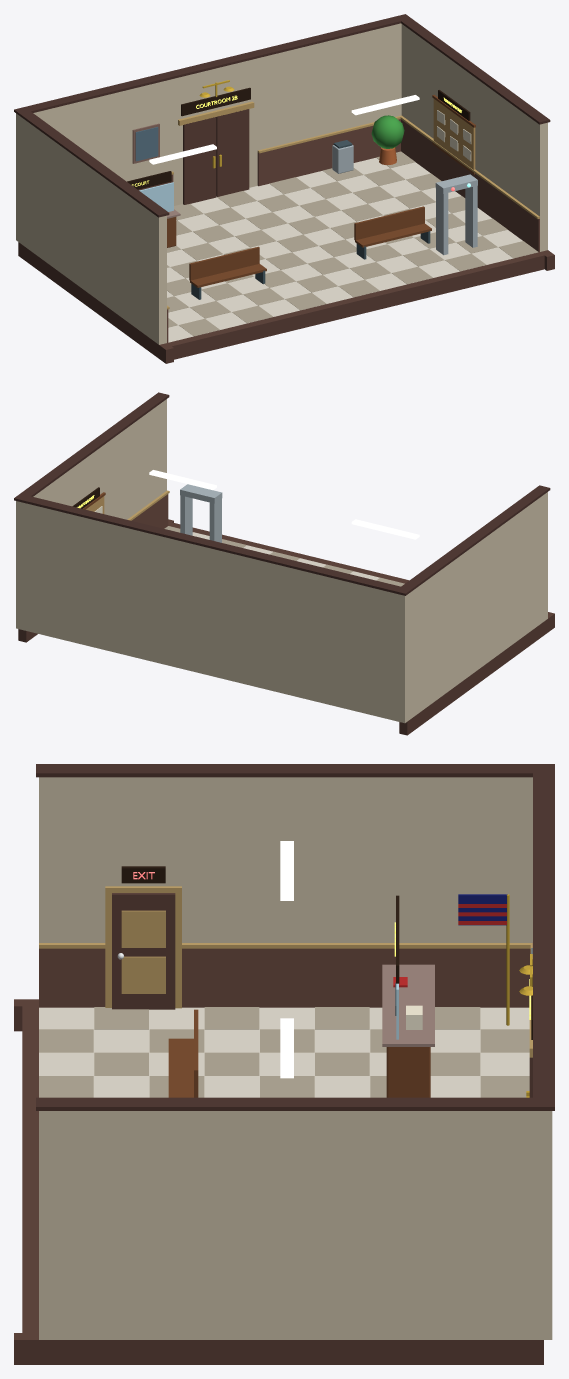
Rendered from places_courtlobby.glb.
The picture shows the model from 3 angles, top to bottom: view 1: azimuth 30°, elevation 25°; view 2: azimuth 150°, elevation 25°; view 3: azimuth 270°, elevation 25°; orthographic projection. The views are drawn at different scales.
Visible parts, largest first — view 1: PlacesCourtLobby_static; view 2: PlacesCourtLobby_static; view 3: PlacesCourtLobby_static.
Part boxes in pixels (bbox=[...]): PlacesCourtLobby_static: bbox=[14, 14, 554, 363]; PlacesCourtLobby_static: bbox=[14, 392, 554, 735]; PlacesCourtLobby_static: bbox=[14, 764, 554, 1364].
Size of the model in its own units: 14.7 by 5.18 by 9.8.
